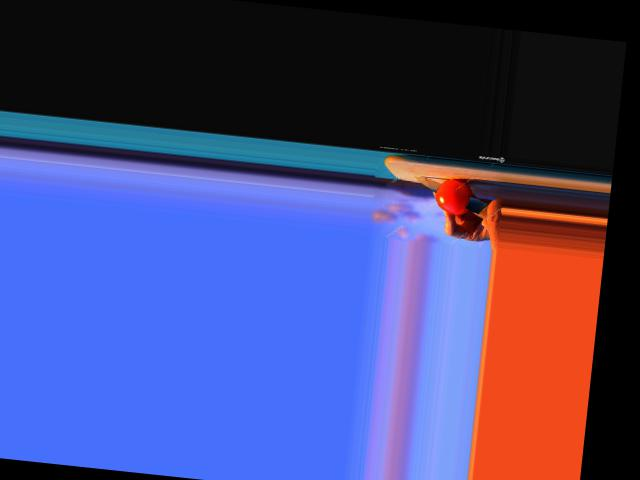tomato: (433, 176, 473, 215)
